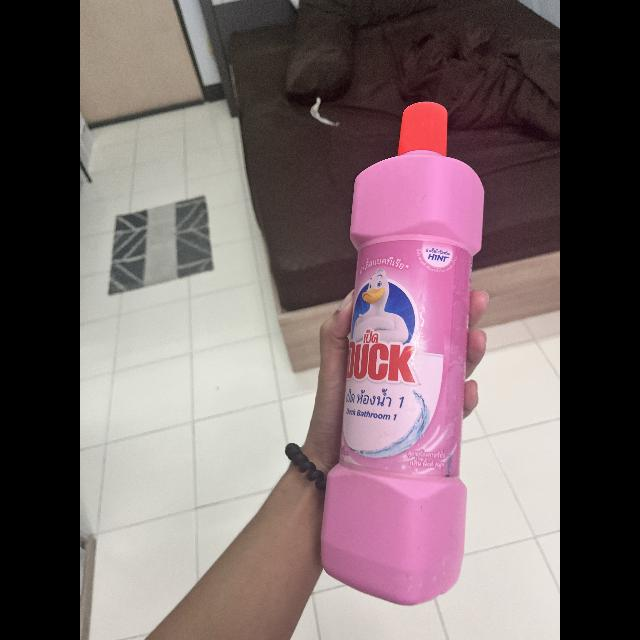chemical_plastic_bottle: (316, 82, 492, 616)
